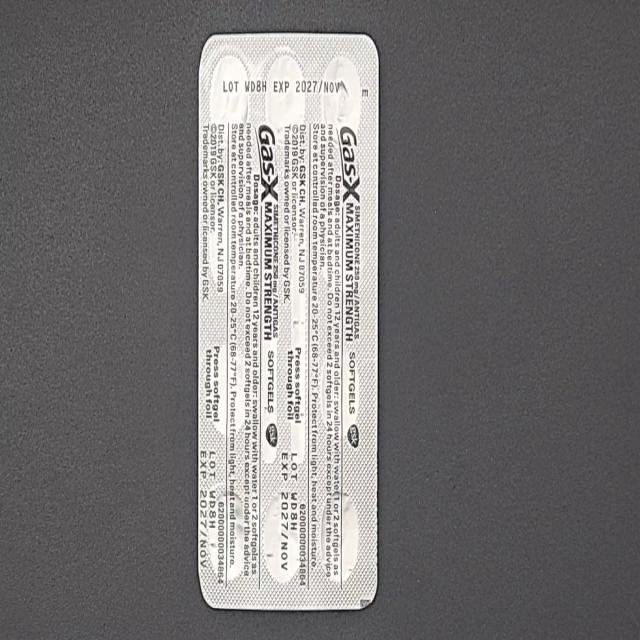no defect: (10, 13, 34, 61)
